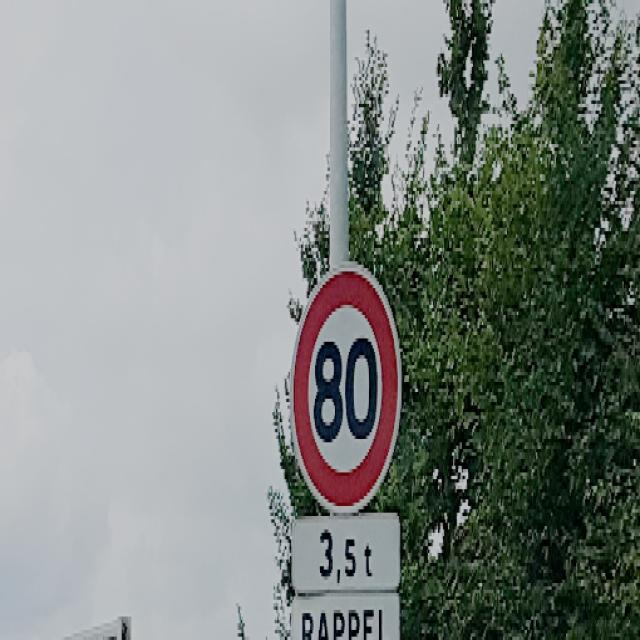speed_80: (290, 259, 404, 512)
